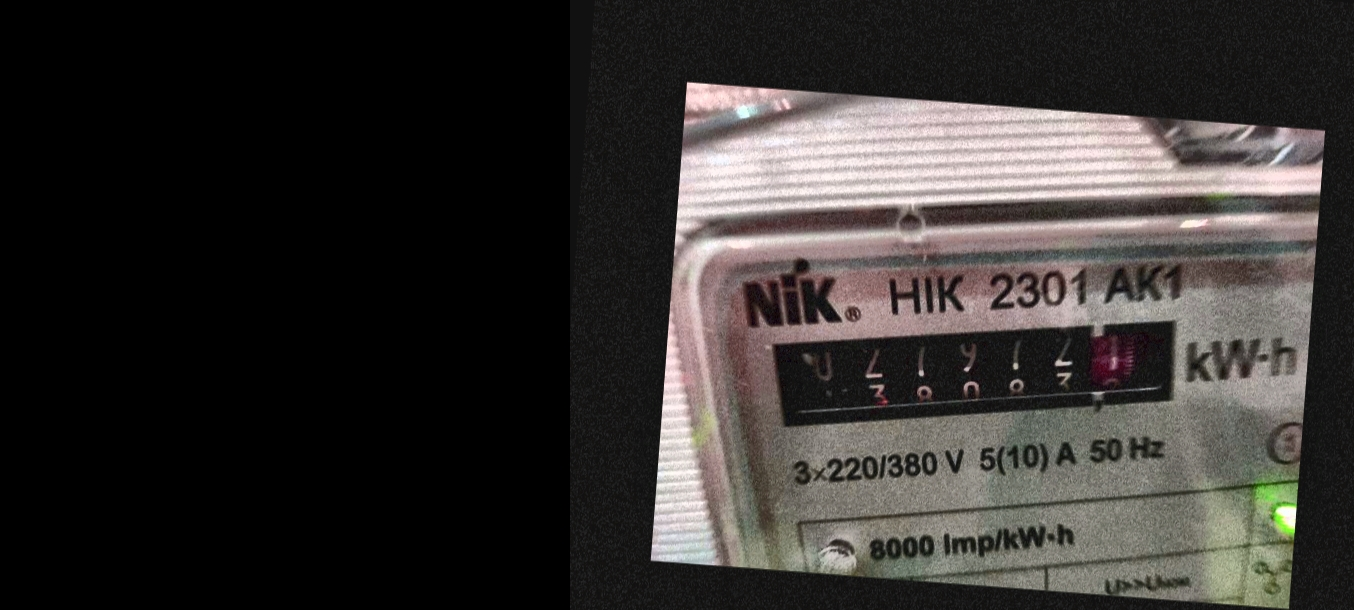0: (806, 343, 836, 381)
1: (1100, 328, 1125, 372)
2: (855, 337, 887, 378), (1047, 328, 1077, 367)
7: (999, 329, 1028, 372), (905, 338, 931, 377)
9: (953, 335, 981, 372)
screen: (748, 278, 1210, 465)
